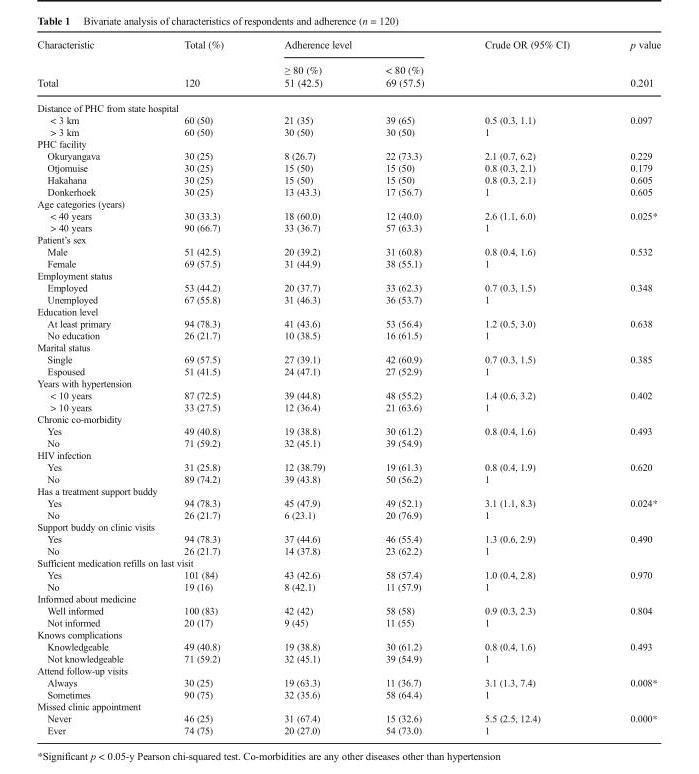table: (36, 37, 660, 735)
table column: (453, 37, 599, 735), (36, 37, 153, 735), (253, 37, 354, 735), (153, 37, 253, 735), (354, 37, 453, 735), (599, 37, 660, 735)
table column header: (36, 37, 660, 95)
table projected row header: (36, 95, 660, 113), (36, 137, 660, 149), (36, 197, 660, 209), (36, 233, 660, 245), (36, 269, 660, 281), (36, 305, 660, 317), (36, 340, 660, 352), (36, 376, 660, 388), (36, 412, 660, 424), (36, 448, 660, 460), (36, 484, 660, 496), (36, 520, 660, 532), (36, 556, 660, 568), (36, 592, 660, 604), (36, 628, 660, 640), (36, 664, 660, 676), (36, 700, 660, 711)
table row: (36, 55, 660, 76), (36, 76, 660, 95), (36, 37, 660, 55), (36, 95, 660, 113), (36, 113, 660, 125), (36, 125, 660, 137), (36, 137, 660, 149), (36, 149, 660, 161), (36, 161, 660, 173), (36, 173, 660, 185), (36, 185, 660, 197), (36, 197, 660, 209), (36, 209, 660, 221), (36, 221, 660, 233), (36, 233, 660, 245), (36, 245, 660, 257), (36, 257, 660, 269), (36, 269, 660, 281), (36, 281, 660, 293), (36, 293, 660, 305), (36, 305, 660, 317), (36, 317, 660, 329), (36, 340, 660, 352), (36, 352, 660, 364), (36, 364, 660, 376), (36, 376, 660, 388), (36, 388, 660, 400), (36, 400, 660, 412), (36, 412, 660, 424), (36, 424, 660, 436), (36, 436, 660, 448), (36, 448, 660, 460), (36, 460, 660, 472), (36, 472, 660, 484), (36, 484, 660, 496), (36, 496, 660, 508), (36, 508, 660, 520), (36, 520, 660, 532), (36, 532, 660, 544), (36, 544, 660, 556), (36, 556, 660, 568), (36, 568, 660, 580), (36, 580, 660, 592), (36, 592, 660, 604), (36, 604, 660, 616), (36, 616, 660, 628), (36, 628, 660, 640), (36, 640, 660, 652), (36, 652, 660, 664), (36, 664, 660, 676), (36, 676, 660, 688), (36, 688, 660, 700), (36, 711, 660, 723), (36, 723, 660, 735), (36, 329, 660, 340), (36, 700, 660, 711)
table spanning cell: (453, 37, 599, 95), (36, 37, 153, 95), (153, 37, 253, 95), (253, 55, 354, 95), (354, 55, 453, 95), (253, 37, 453, 55), (599, 37, 660, 95)
